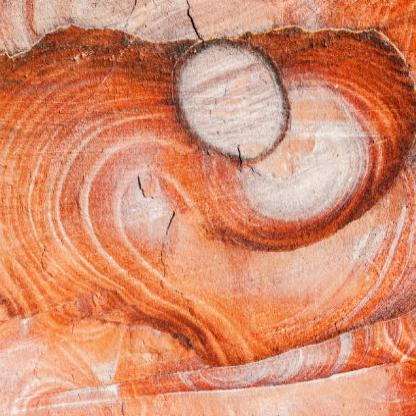Sedimentary_Sandstone: (2, 3, 415, 415)
